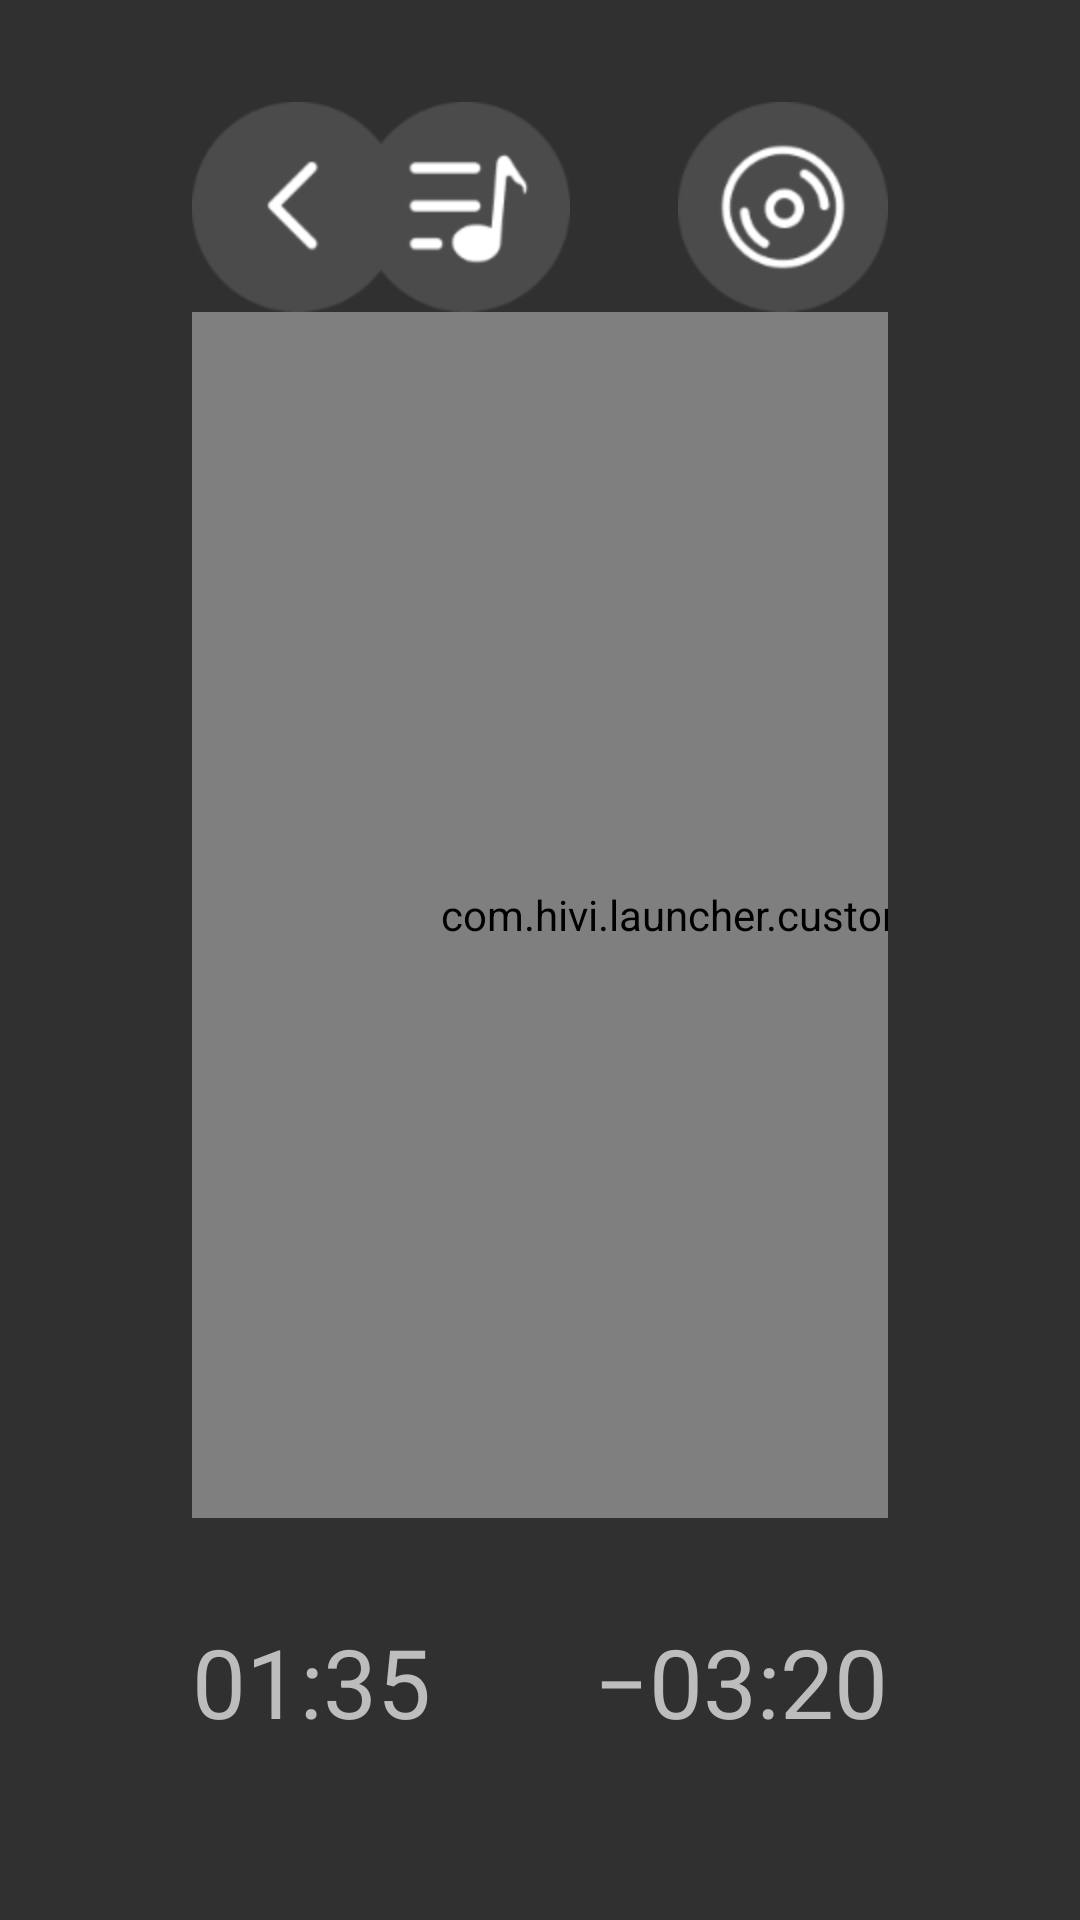

Screen size 1080px×1920px. Icon name, then its center in pixels as [x,y]:
唱片模式: [783,207]
播放列表: [465,207]
返回: [297,207]
